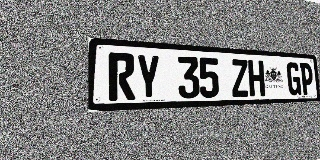3: (178, 56, 200, 99)
5: (199, 57, 220, 98)
G: (286, 62, 301, 95)
H: (248, 60, 265, 97)
P: (300, 63, 314, 95)
R: (108, 52, 135, 101)
Y: (136, 54, 161, 100)
Z: (231, 59, 249, 97)
